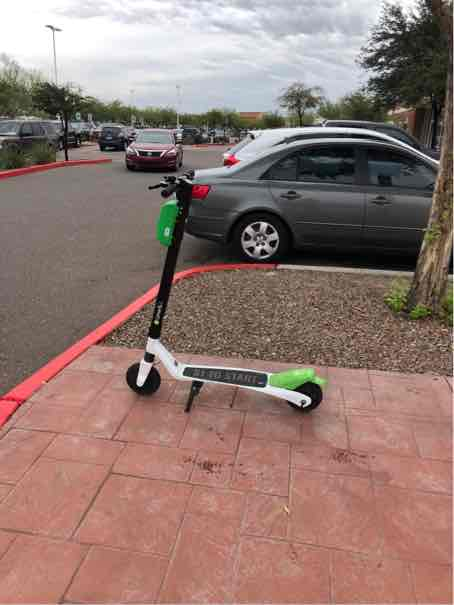scooter: (114, 167, 343, 423)
